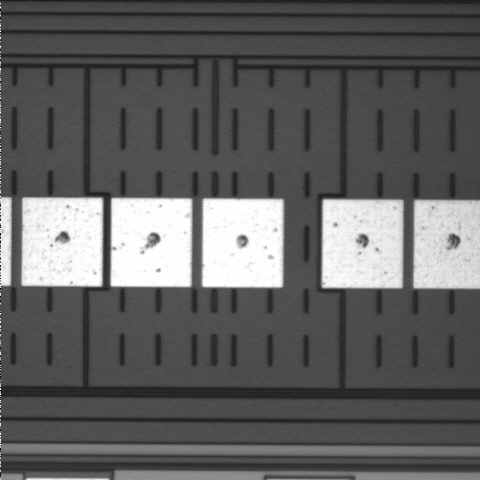pad: (202, 199, 284, 288), (111, 198, 192, 287), (322, 199, 403, 288), (22, 198, 103, 286)
